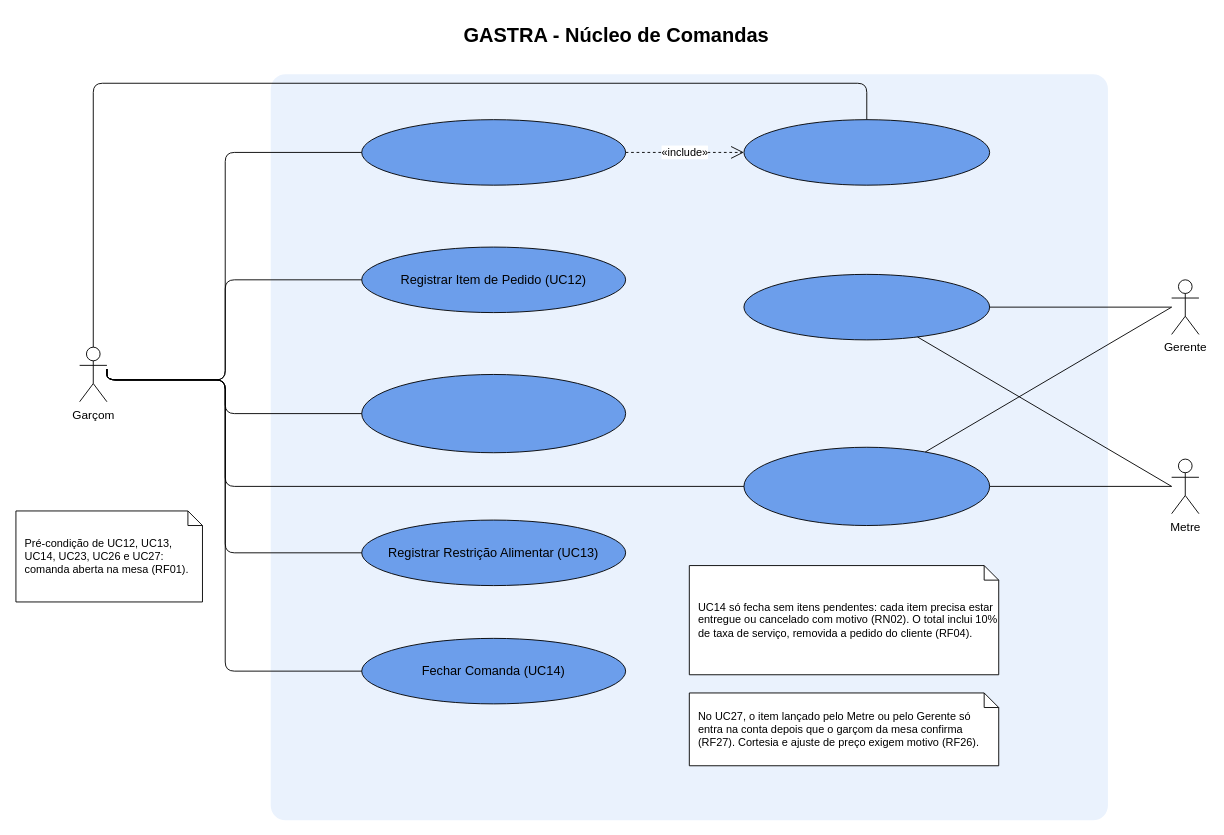
This 1224x835 diagram has some shape labels left out. Each missing label, with the centre of its shape:
"Abrir Comanda (UC10)" belongs at point (493, 152).
"Atualizar Situação do Item entregar / cancelar com motivo (UC23)" belongs at point (493, 413).
"Confirmar/Ajustar Composição da Mesa (UC11)" belongs at point (866, 152).
"Lançar Cortesia e Ajustar Preço (UC26)" belongs at point (866, 306).
"Lançar Item para Confirmação do Garçom (UC27)" belongs at point (866, 486).
